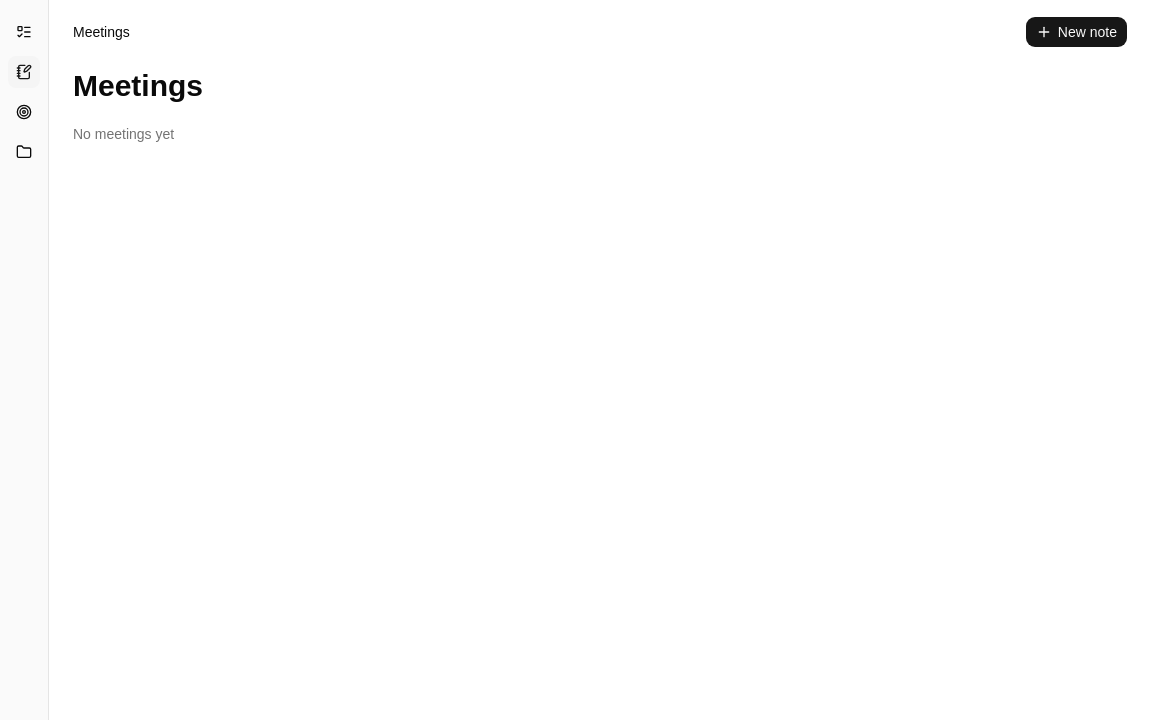
Test: The sheet › offers no role and the four RACI roles, in order
The image size is (1152, 720).
Step 1. Click the 3rd link named "Initiatives" → (24, 112), box [8, 96, 40, 128]
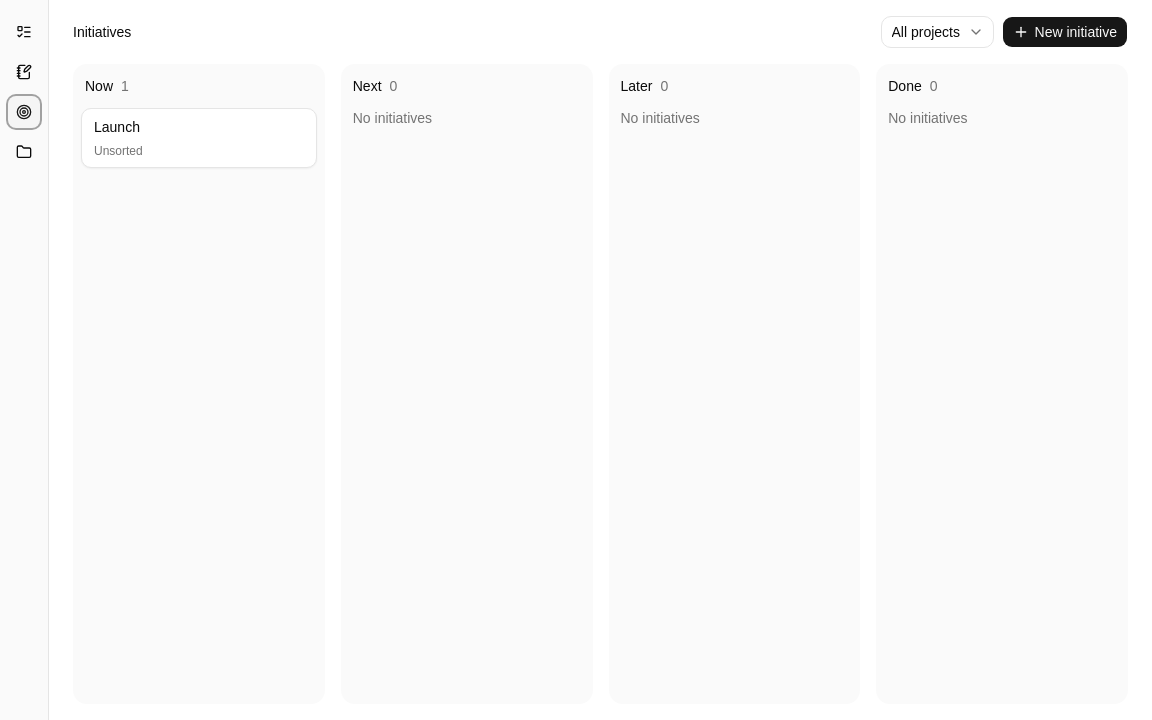
Now the button "New initiative" is shown, box [1002, 16, 1128, 48]
Step 2. Click the button "Launch Unsorted" → (199, 138), box [81, 108, 317, 168]
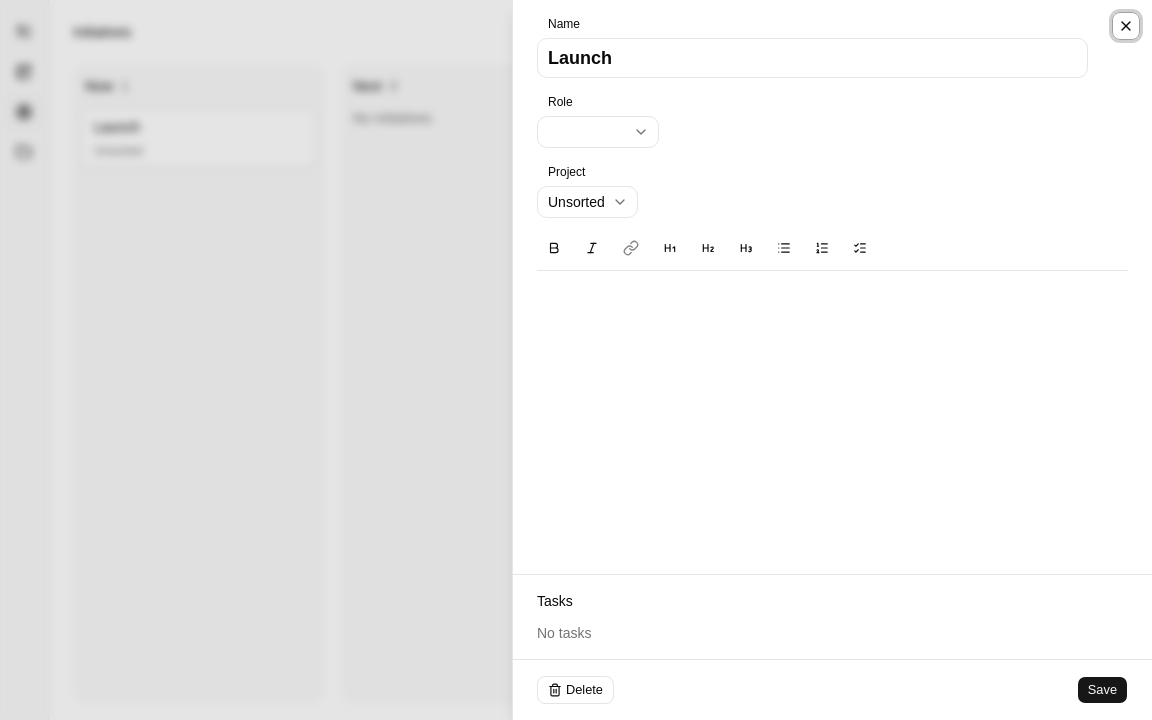
Now the field named "Initiative name" is enabled, box [537, 38, 1088, 78]
